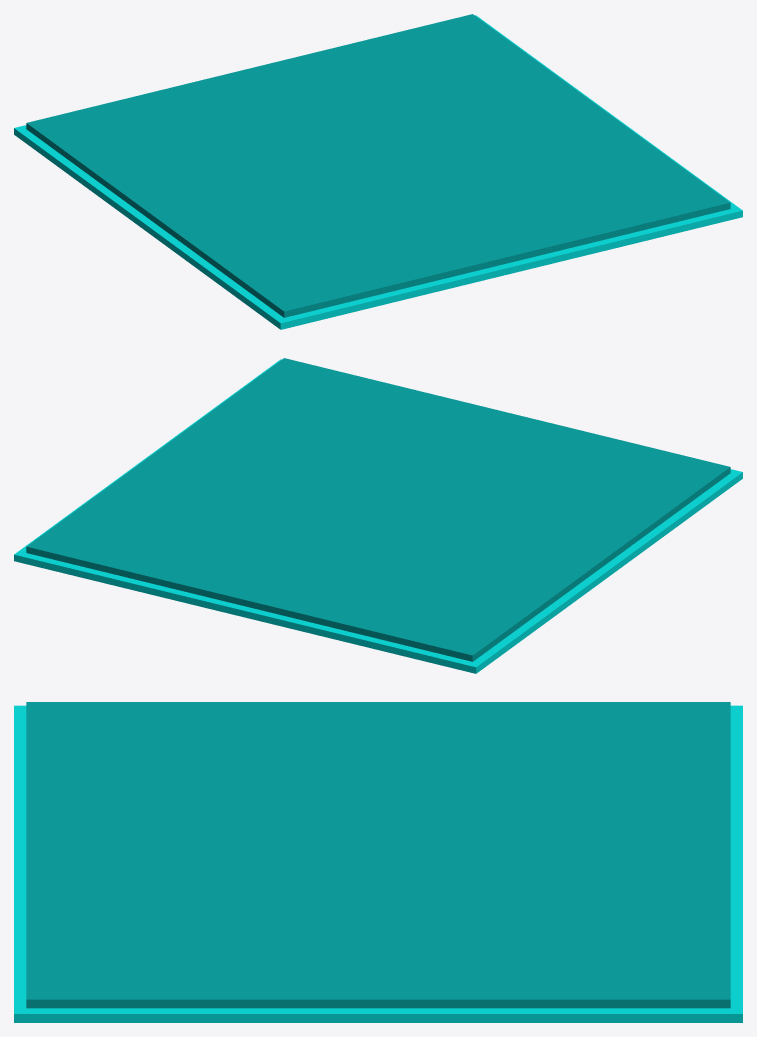
The model's file is sol.fbx.
3 renders of one model, top to bottom at view 1: azimuth 30°, elevation 25°; view 2: azimuth 150°, elevation 25°; view 3: azimuth 270°, elevation 25°, orthographic. The views are drawn at different scales.
Parts seen in each view (by area): view 1: pCube1, pCube2; view 2: pCube1, pCube2; view 3: pCube1, pCube2.
Part boxes in pixels (x1,y1,x2,y2): pCube1: (26,14,730,317); pCube2: (14,15,742,329); pCube1: (26,358,730,661); pCube2: (14,359,742,673); pCube1: (26,702,730,1008); pCube2: (14,705,742,1022).
Bounding box in the file's own units: 24.95 × 0.6777 × 24.95.
